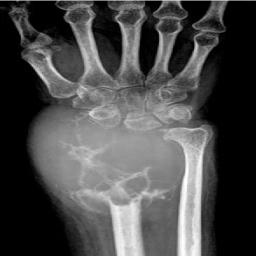cancer: (34, 106, 181, 219)
